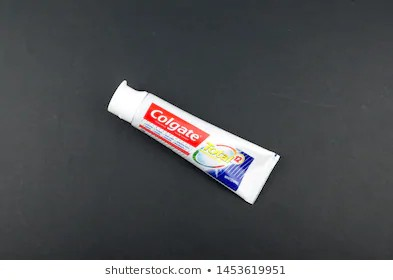colgate-total-150gm: (98, 76, 283, 210)
